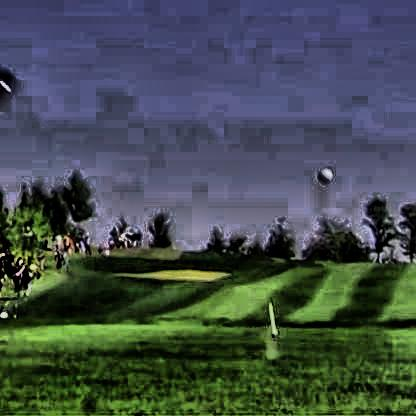golfball: (314, 164, 330, 182)
